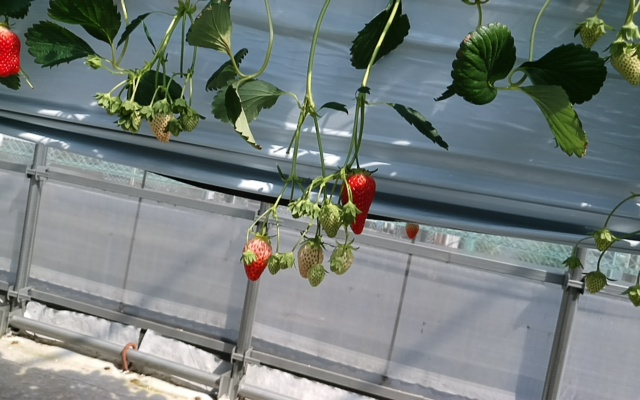GreenStrawberry: (607, 35, 640, 90), (295, 237, 325, 279), (146, 104, 174, 144), (319, 199, 344, 240), (577, 17, 606, 52), (330, 242, 357, 278), (583, 270, 608, 298), (176, 107, 199, 132), (593, 229, 612, 254), (308, 264, 327, 288), (268, 251, 285, 277), (626, 284, 640, 308)
MatureStrawberry: (340, 168, 376, 238), (241, 232, 274, 283), (1, 22, 22, 80)
